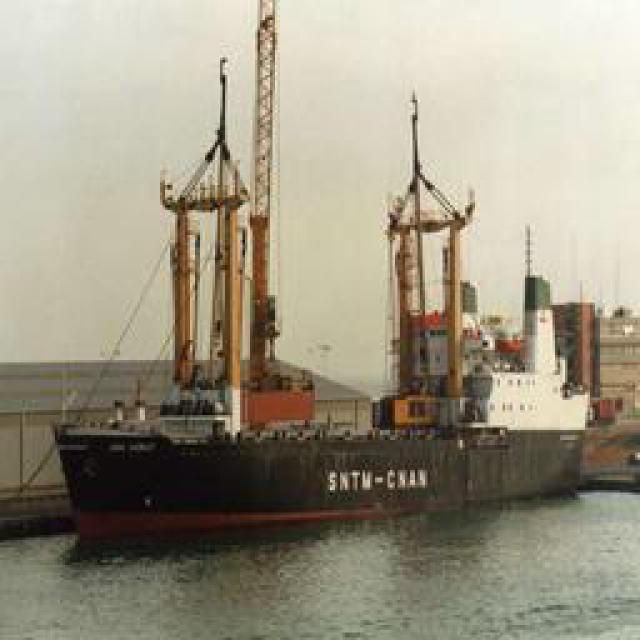Ship: (55, 414, 578, 554)
